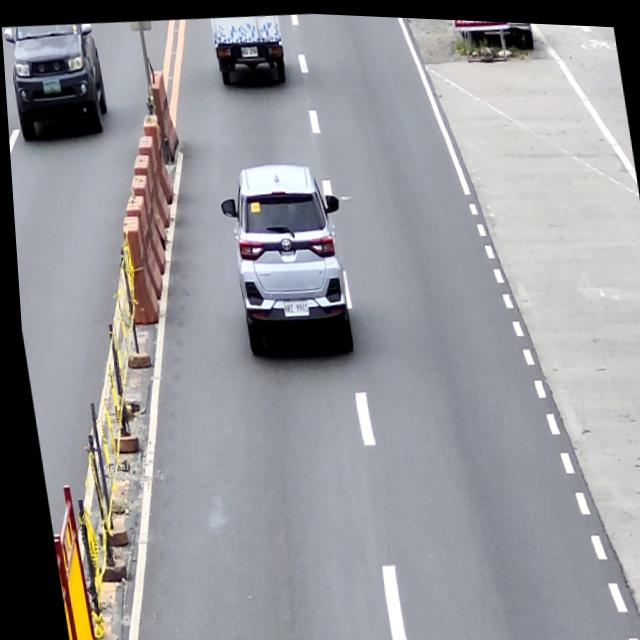Car: (212, 154, 356, 358)
License-Plate: (277, 297, 306, 317)
